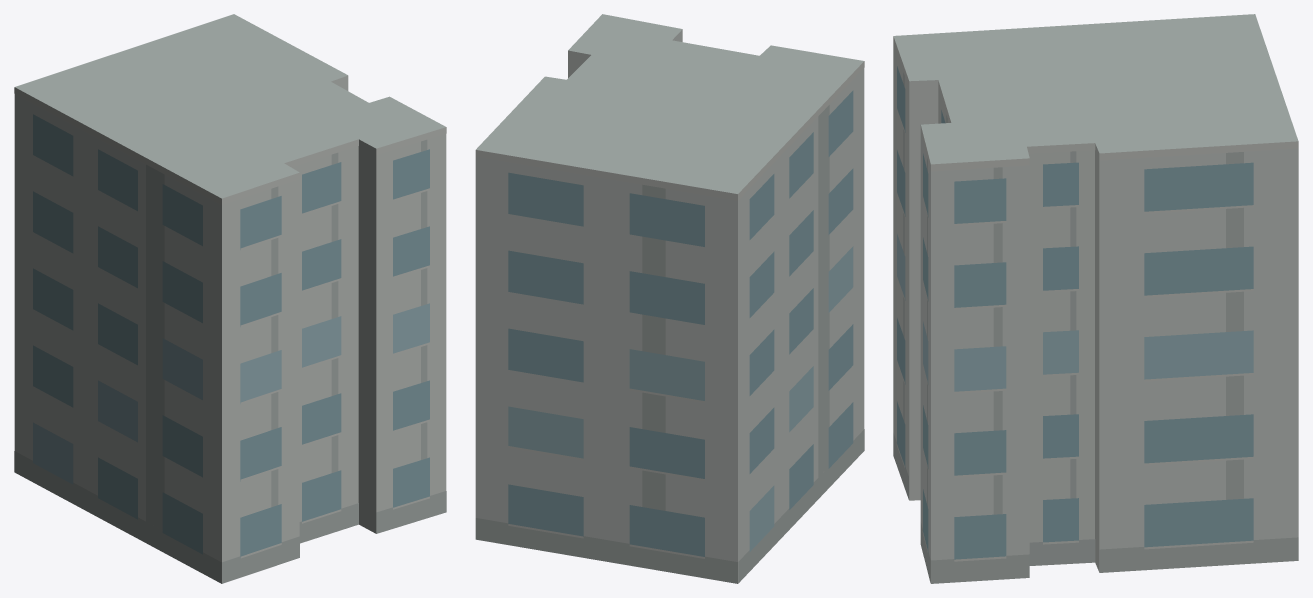
Rendered from survey-upis-32569020.glb.
3 views of the same model, side by side, from view 1: azimuth 30°, elevation 25°; view 2: azimuth 150°, elevation 25°; view 3: azimuth 270°, elevation 25° (orthographic). The views are drawn at different scales.
Parts seen in each view (by area): view 1: survey-upis-32569020.tmp; view 2: survey-upis-32569020.tmp; view 3: survey-upis-32569020.tmp.
Boxes of the visible parts, box(x1,y1,x2,y2) form: survey-upis-32569020.tmp: box(14, 14, 446, 583); survey-upis-32569020.tmp: box(475, 14, 864, 583); survey-upis-32569020.tmp: box(893, 14, 1298, 583).
Bounding box in the file's own units: 10.93 × 14.2 × 12.44.
